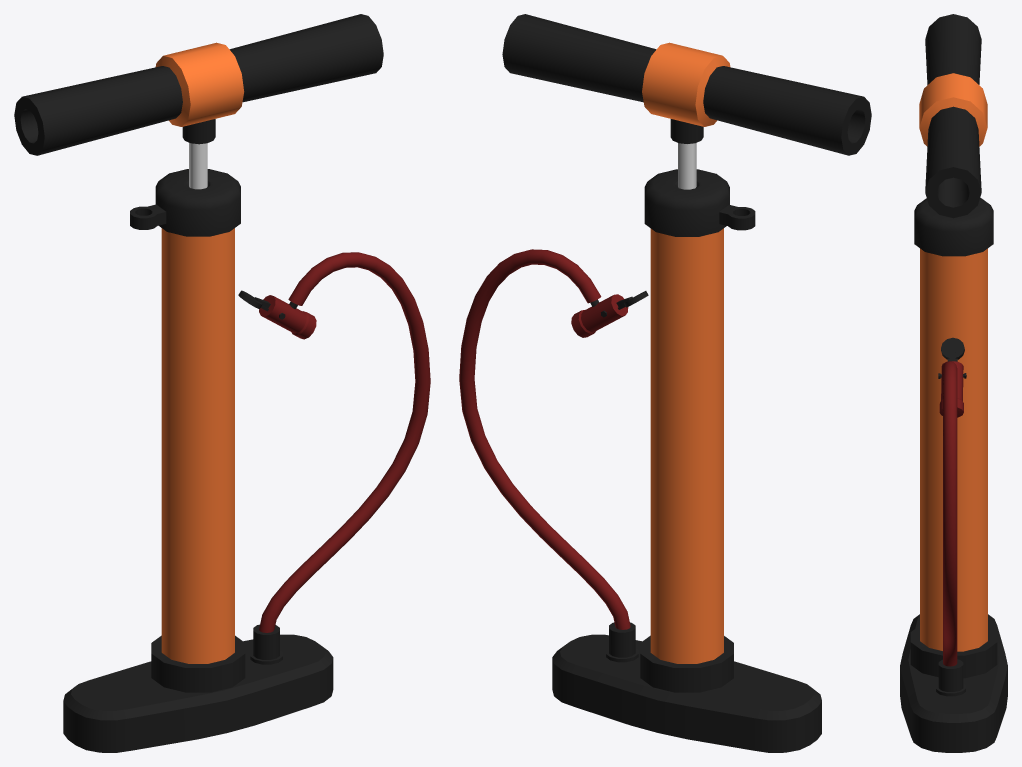
File: Pump.fbx
The picture shows the model from 3 angles, left to right: view 1: azimuth 30°, elevation 25°; view 2: azimuth 150°, elevation 25°; view 3: azimuth 270°, elevation 25°; orthographic projection. The views are drawn at different scales.
Parts seen in each view (by area): view 1: Pump; view 2: Pump; view 3: Pump.
Part boxes in pixels (box(x1,y1,x2,y2)): Pump: box(14, 14, 430, 752); Pump: box(459, 14, 871, 752); Pump: box(900, 14, 1007, 752).
Bounding box in the file's own units: 179 × 284 × 45.45.
